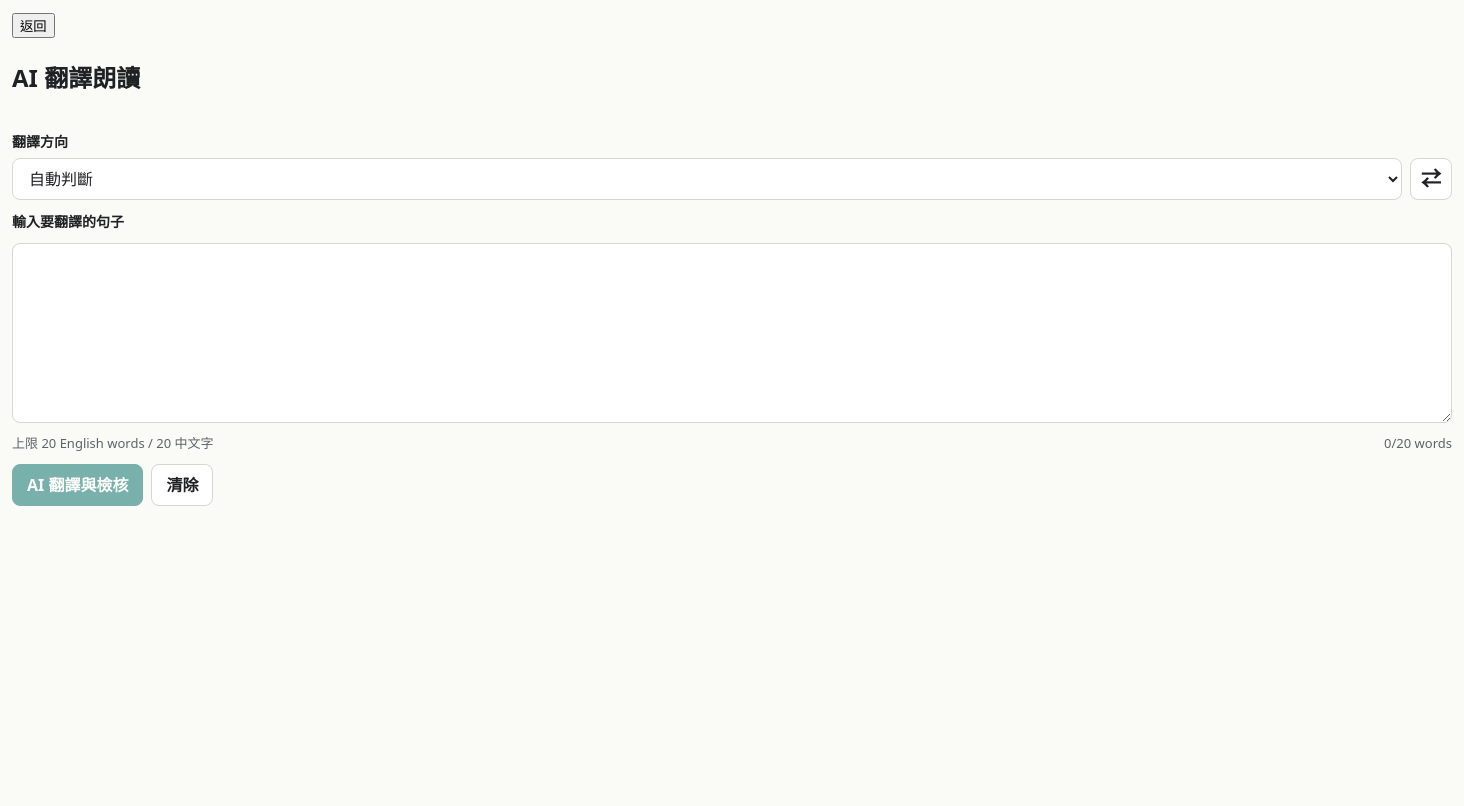
Test: TranslationReader › clears input, result, and active speech
This screenshot has width=1464, height=806.
Type "我每天走路去學校。" into the text box labelled "輸入要翻譯的句子".
click(732, 333); type("我每天走路去學校。")  # box left=12, top=243, right=1452, bottom=423
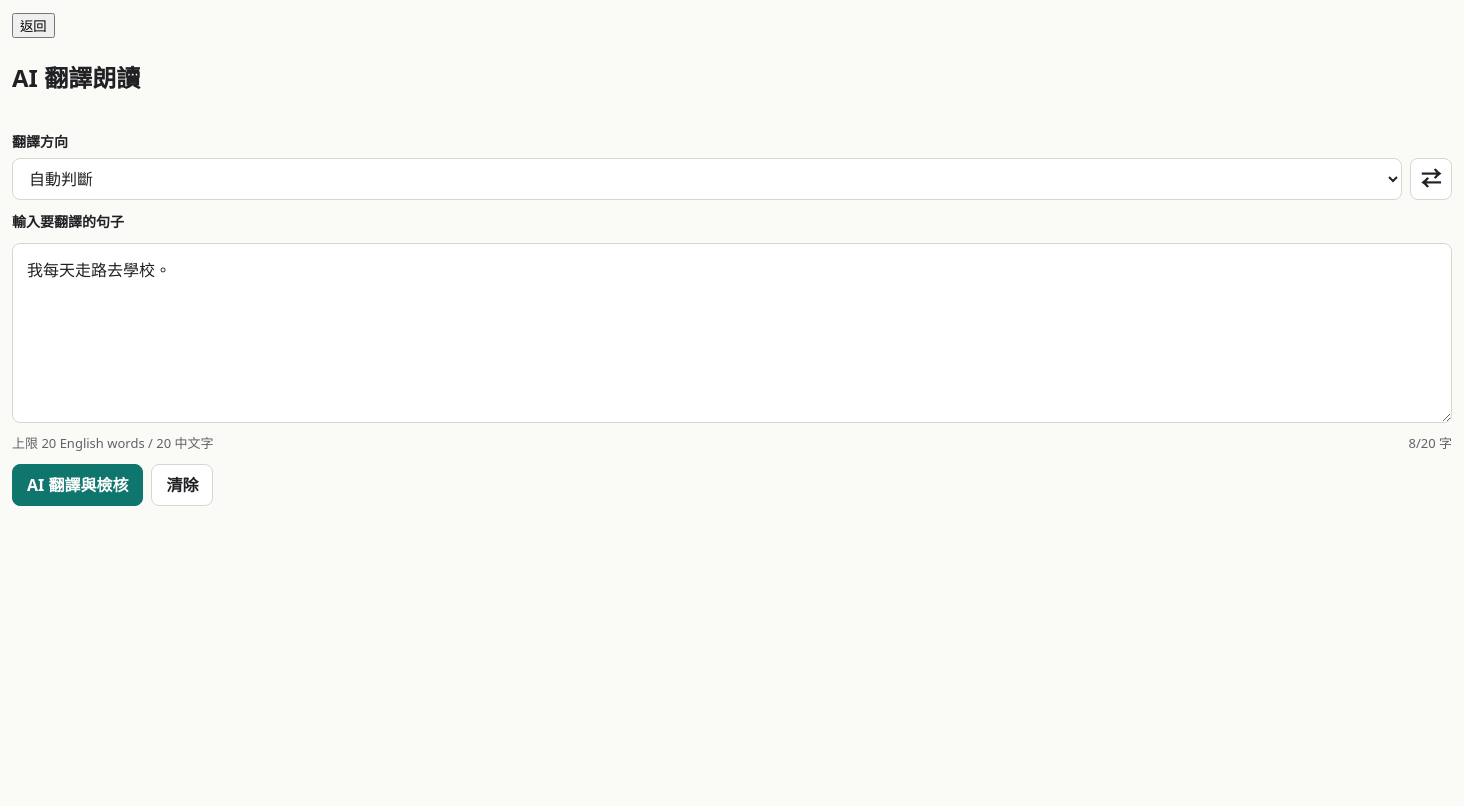
Click the button "AI 翻譯與檢核".
click(78, 485)  # box left=12, top=464, right=143, bottom=506
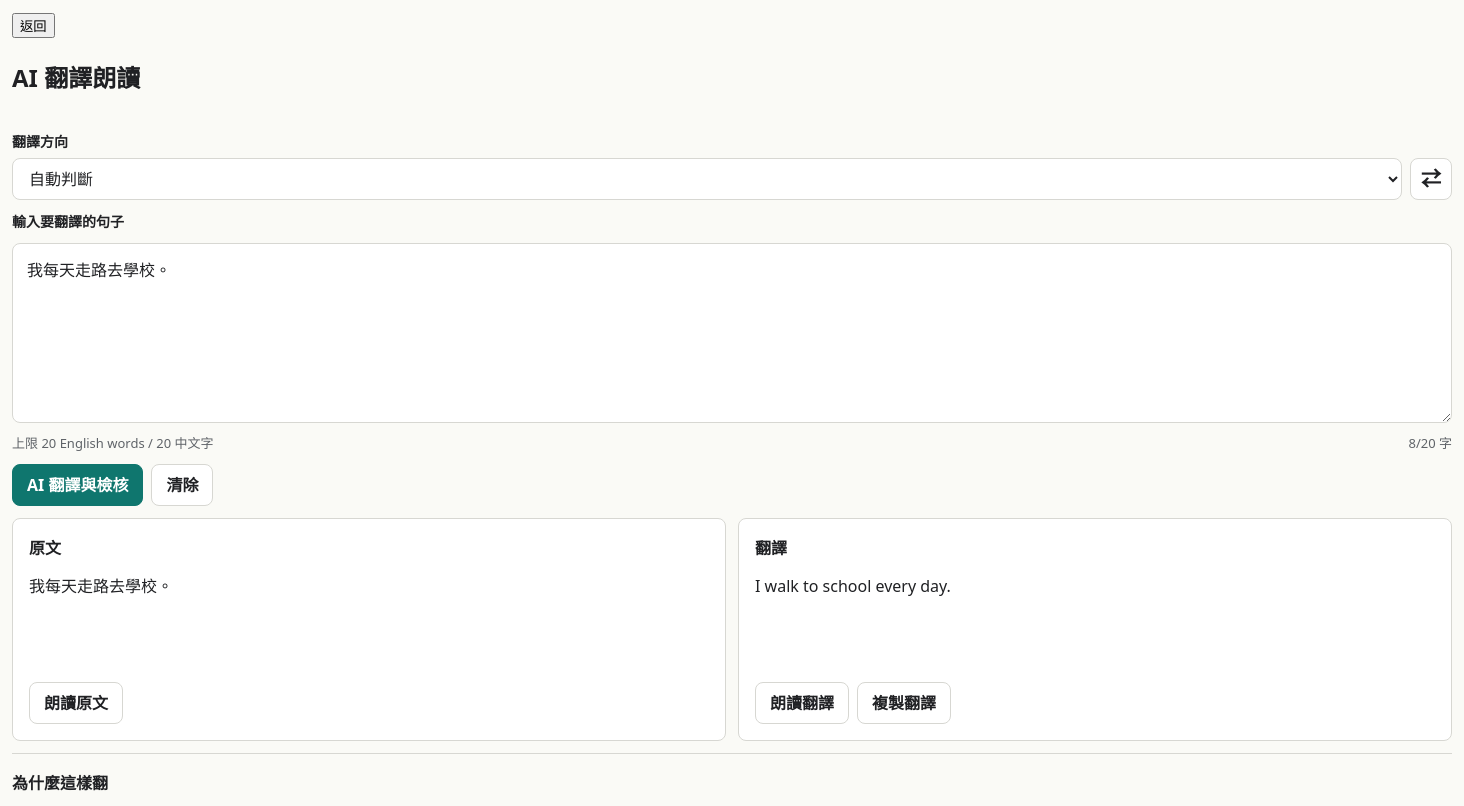
Click the button "清除".
click(182, 485)  # box left=151, top=464, right=213, bottom=506
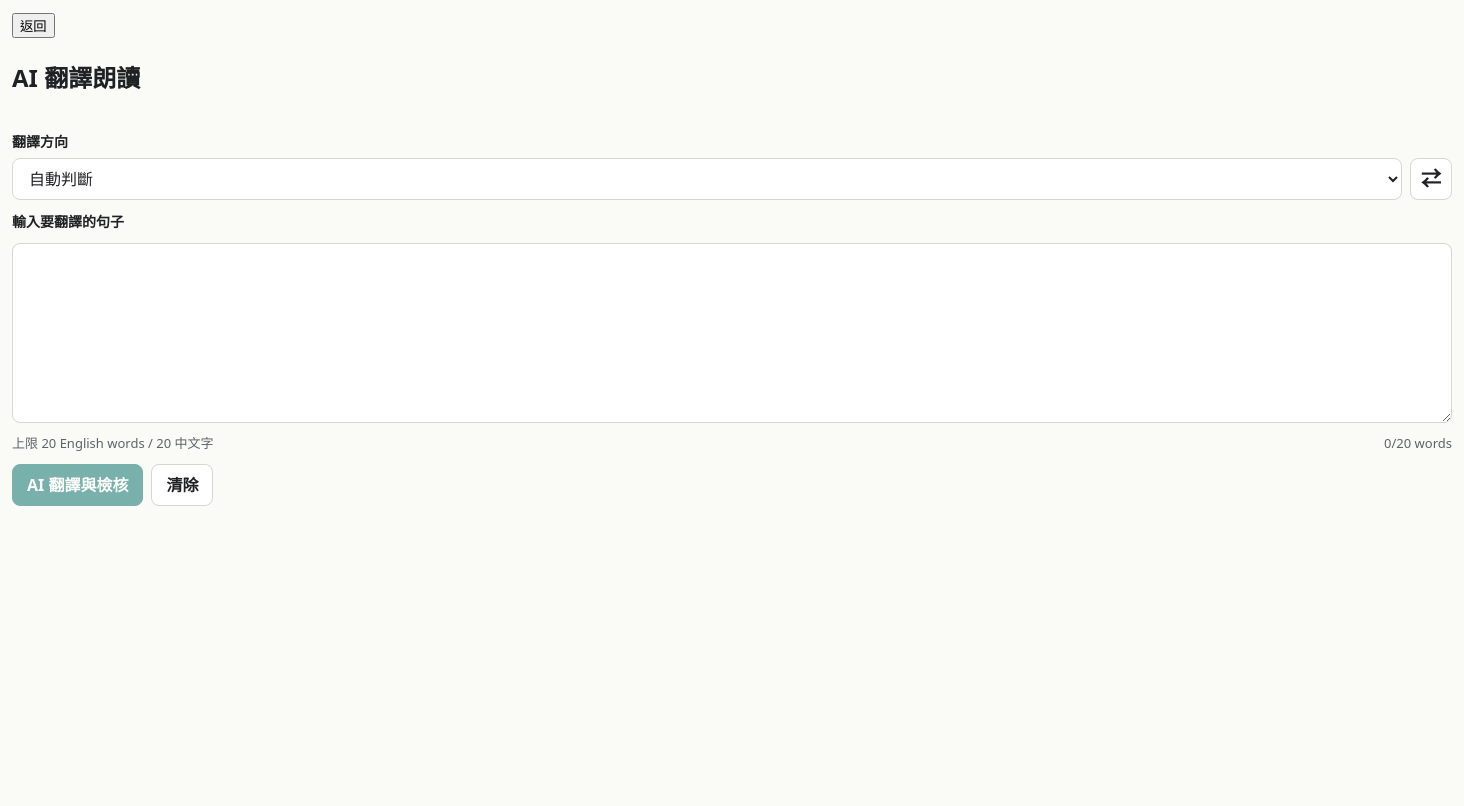
Result: the text box labelled "輸入要翻譯的句子" is empty at left=12, top=243, right=1452, bottom=423
